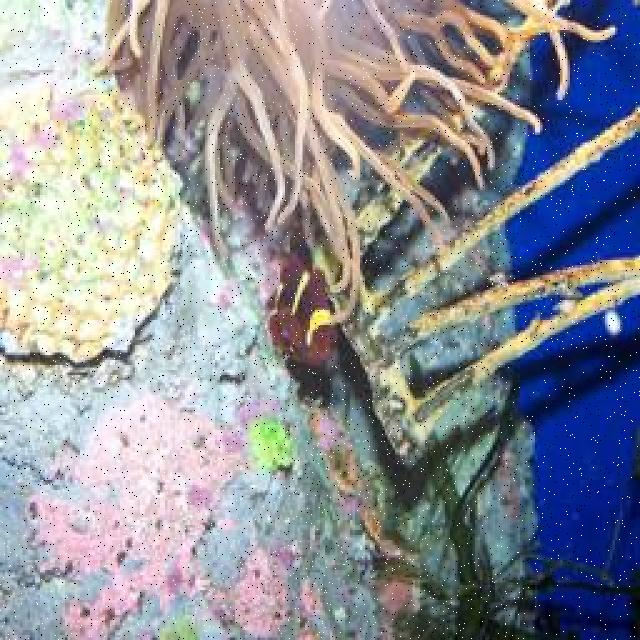fish: (269, 243, 341, 364)
reefs: (92, 0, 618, 346)
